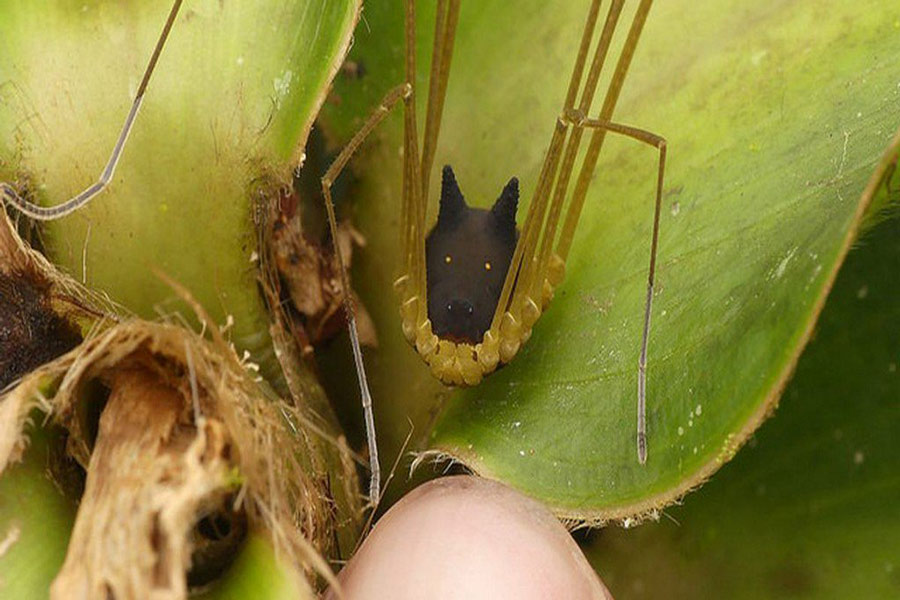Lobo: (415, 172, 533, 367)
